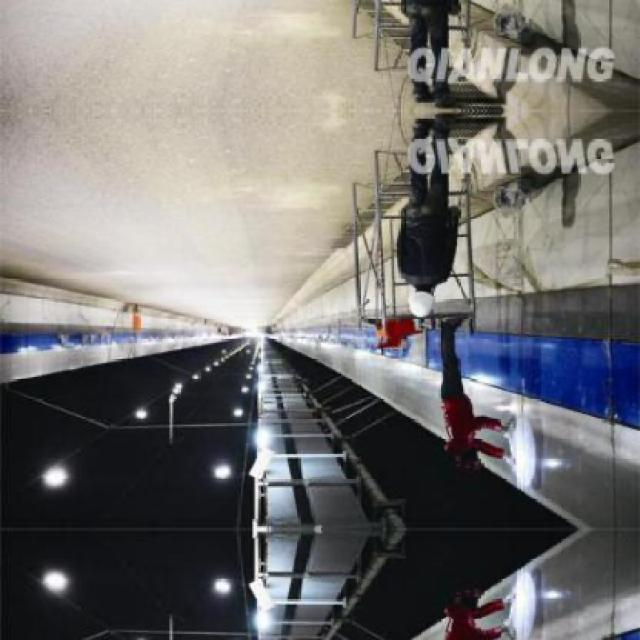con casco: (393, 274, 460, 336)
